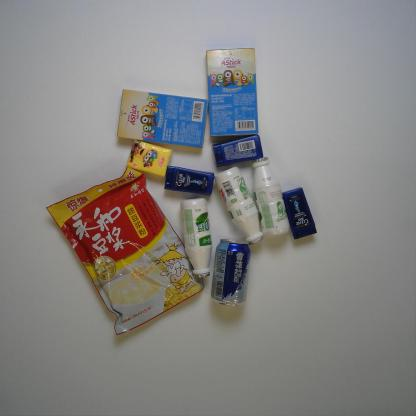Alcohol: (211, 239, 251, 307)
Dessert: (117, 89, 209, 148), (205, 47, 258, 138)
Instant Drink: (46, 167, 204, 334)
Milk: (216, 166, 264, 245), (252, 156, 290, 237), (180, 197, 213, 277)
Personal Hygiene: (283, 186, 318, 239), (213, 134, 264, 169), (164, 165, 215, 196)
Tissue: (127, 138, 174, 178)
